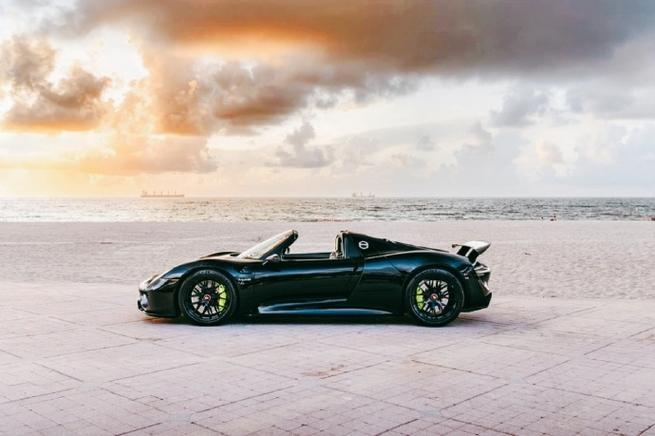汽车: (143, 224, 508, 335)
